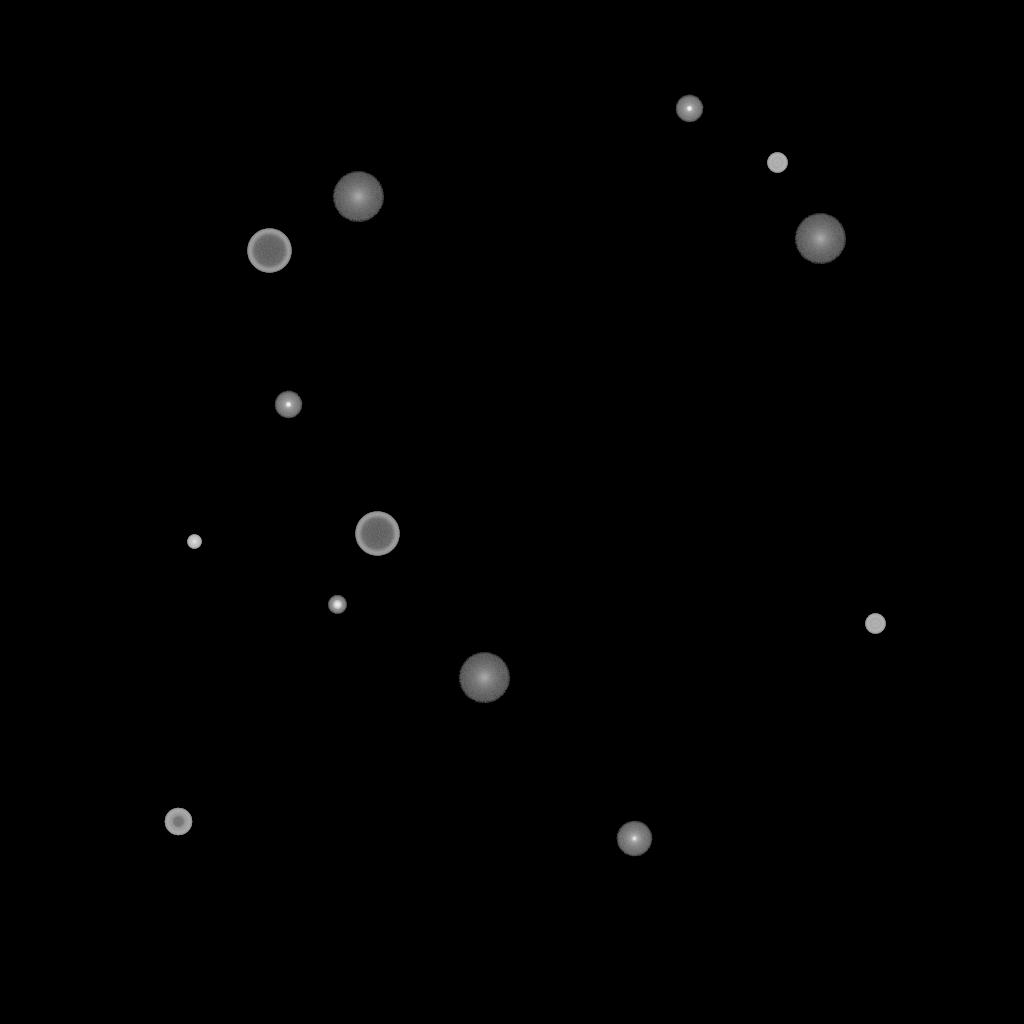depth:-10: (274, 391, 302, 419), (675, 95, 703, 123)
depth:-20: (328, 596, 346, 614)
depth:-30: (187, 535, 201, 549)
depth:-40: (767, 153, 787, 173), (865, 614, 885, 634)
depth:-50: (164, 808, 192, 836)
depth:-70: (247, 229, 291, 273), (355, 512, 399, 556)
depth:0: (616, 821, 652, 857)
depth:20: (458, 653, 510, 703), (794, 214, 846, 264), (332, 172, 384, 222)
